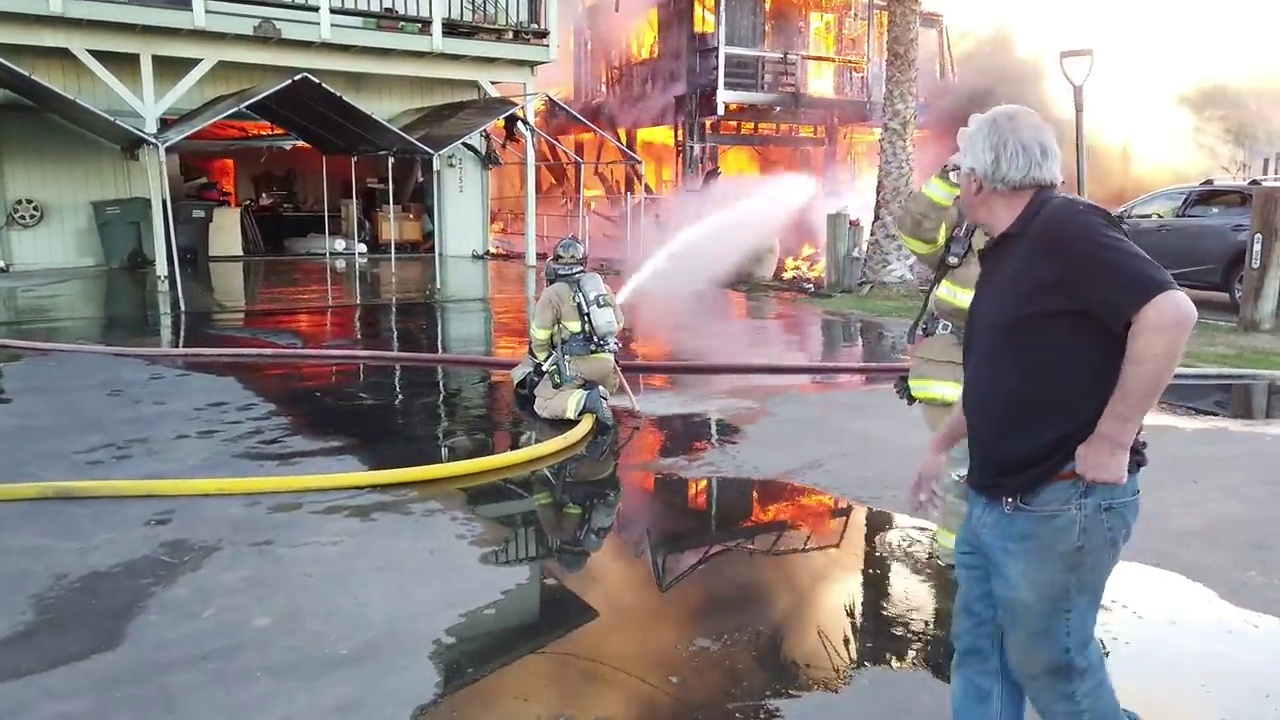fire: (712, 119, 881, 163), (562, 133, 681, 188), (623, 1, 667, 68), (807, 14, 836, 96), (195, 120, 286, 145), (192, 160, 235, 204), (717, 145, 763, 182), (780, 242, 822, 278), (684, 471, 710, 507), (691, 1, 715, 36), (646, 372, 670, 385)
smoke: (1041, 1, 1195, 187), (935, 4, 1042, 108), (1196, 19, 1279, 152), (557, 3, 621, 59), (915, 111, 974, 170)
